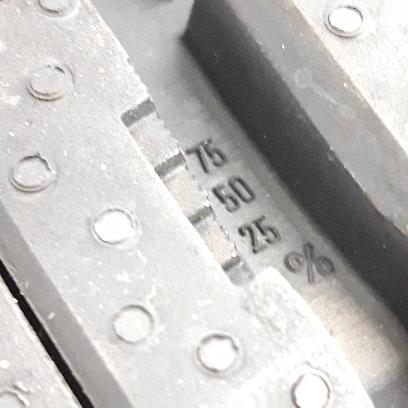temoin:100: (113, 53, 275, 292)
